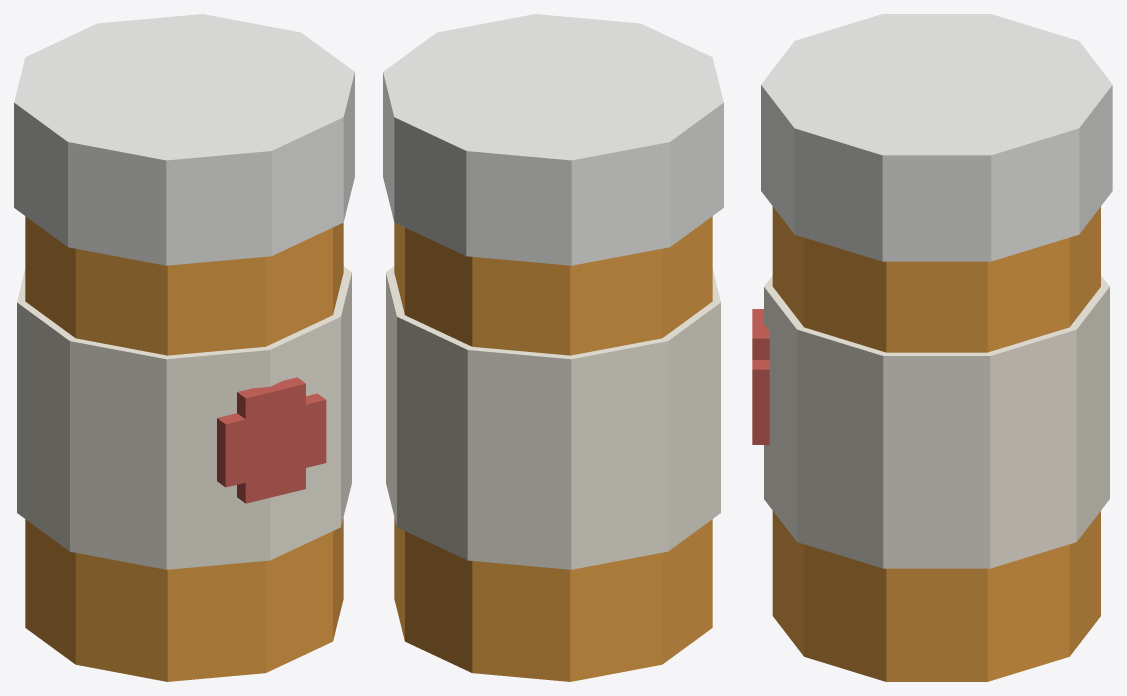
Rendered from analgesico.glb.
3 views of the same model, side by side, from view 1: azimuth 30°, elevation 25°; view 2: azimuth 150°, elevation 25°; view 3: azimuth 270°, elevation 25° (orthographic).
Parts seen in each view (by area): view 1: analgesico; view 2: analgesico; view 3: analgesico.
Part boxes in pixels (box(x1,y1,x2,y2)): analgesico: box(14, 14, 354, 681); analgesico: box(383, 14, 723, 681); analgesico: box(752, 14, 1112, 681).
Size of the model in its own units: 0.0571 by 0.1 by 0.0615.
